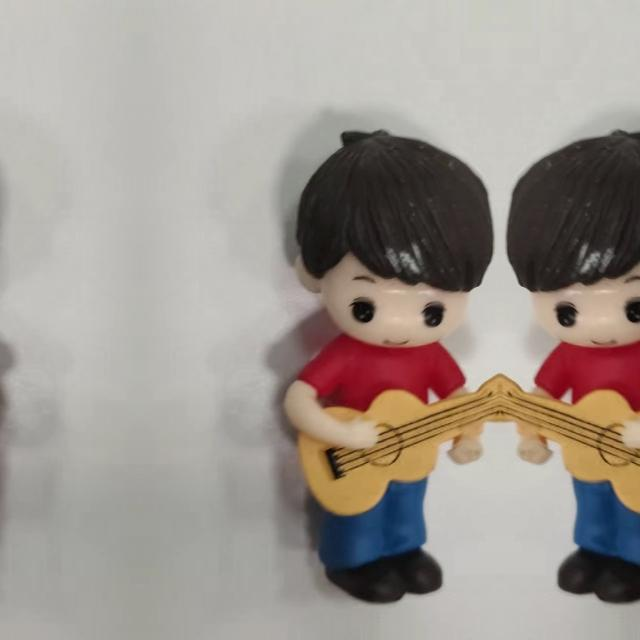man cloth: (297, 335, 467, 473), (533, 335, 640, 473)
man head: (290, 123, 500, 353), (500, 123, 640, 353)
trousers: (303, 474, 452, 610), (548, 474, 640, 609)
